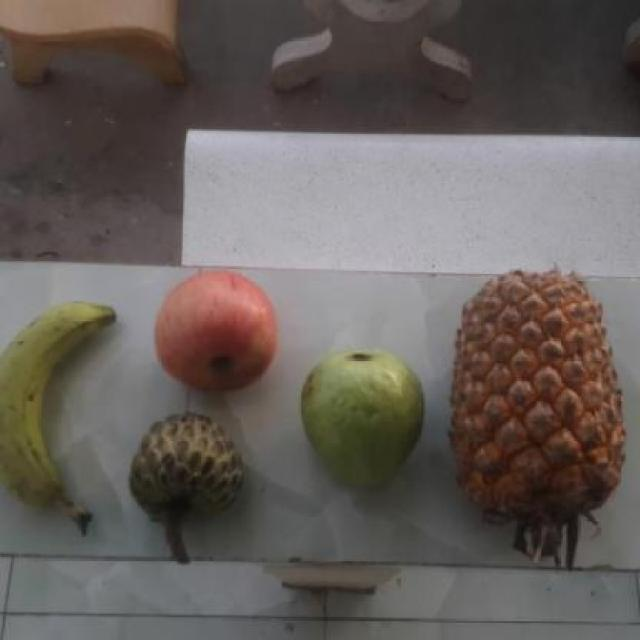apple: (152, 271, 282, 397)
banana: (1, 300, 125, 528)
guava: (302, 346, 430, 488)
pineapple: (450, 274, 628, 534)
sugar apple: (127, 413, 248, 533)
